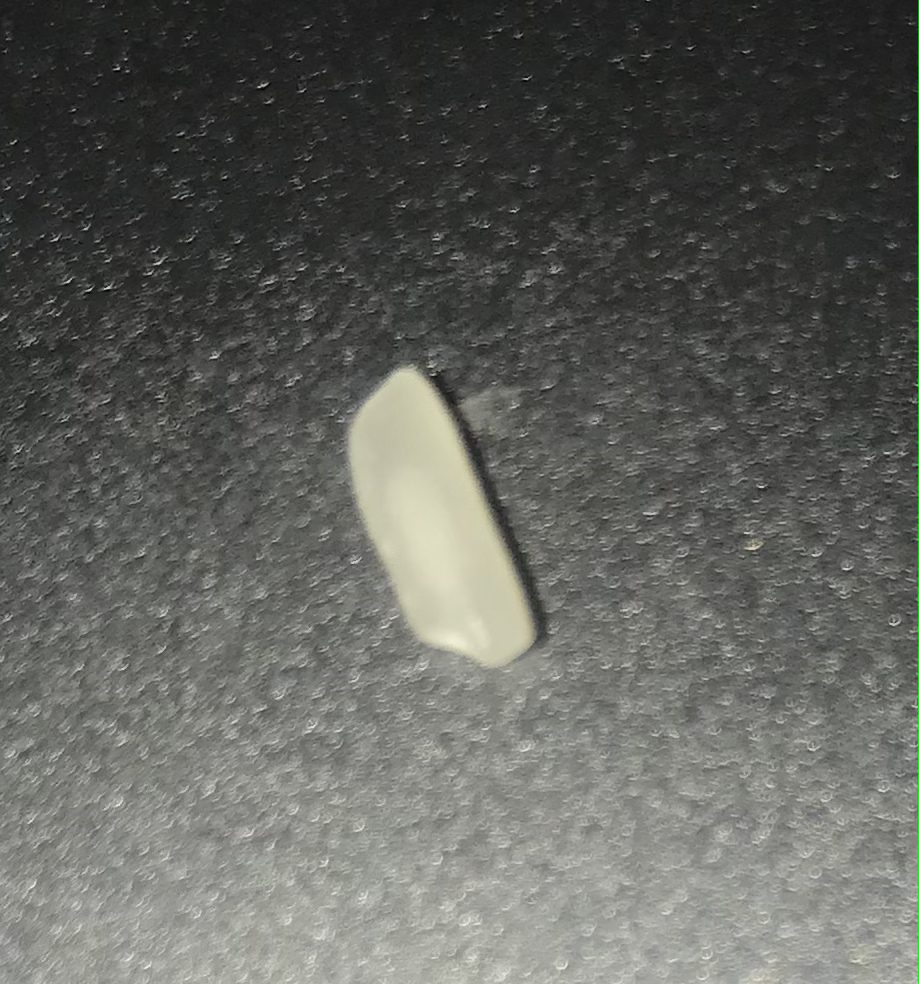Gao Thom My: (330, 355, 555, 686)
